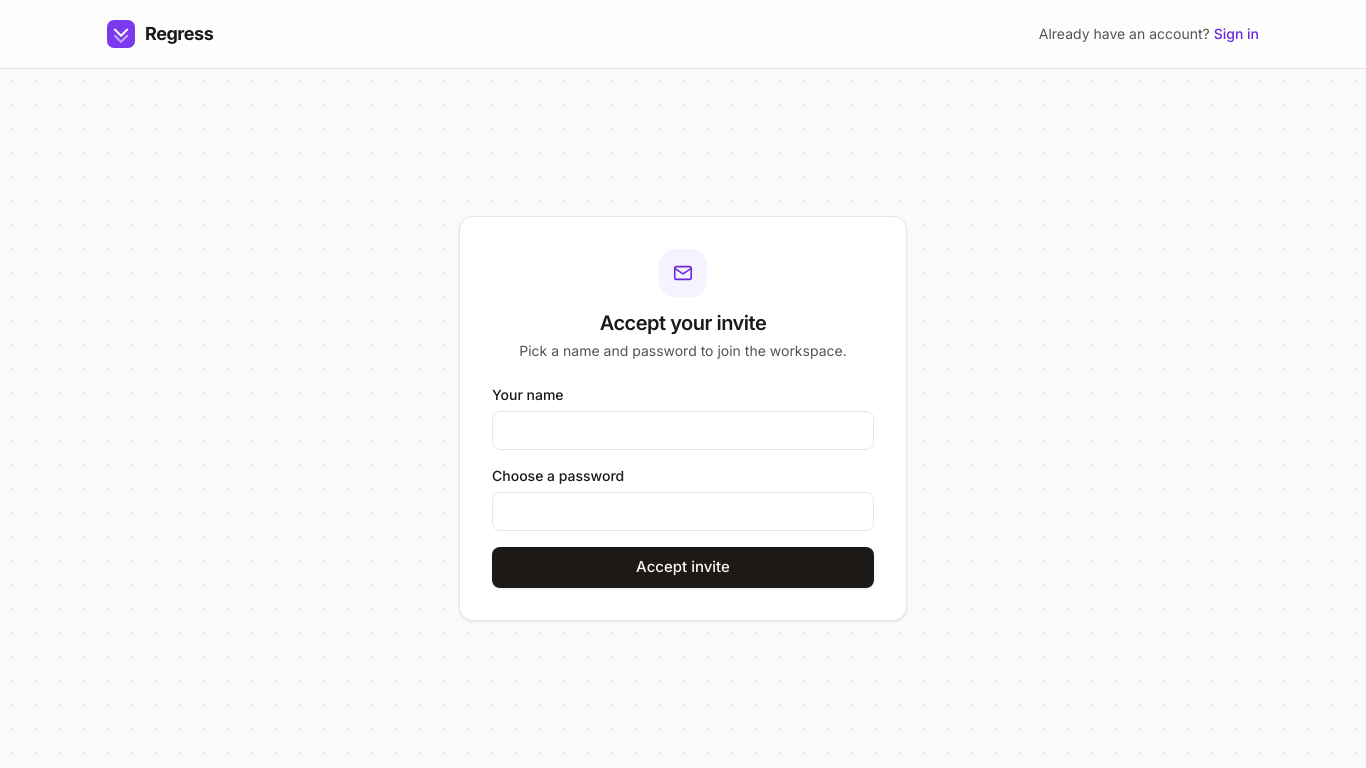
UI: invites — admin creates + invitee redeems › /invite-redeem with a bogus token shows the redeem error
The image size is (1366, 768).
Type "Bogus" into the field with test id "invite-name-input" at (683, 431), box [492,411,874,450]
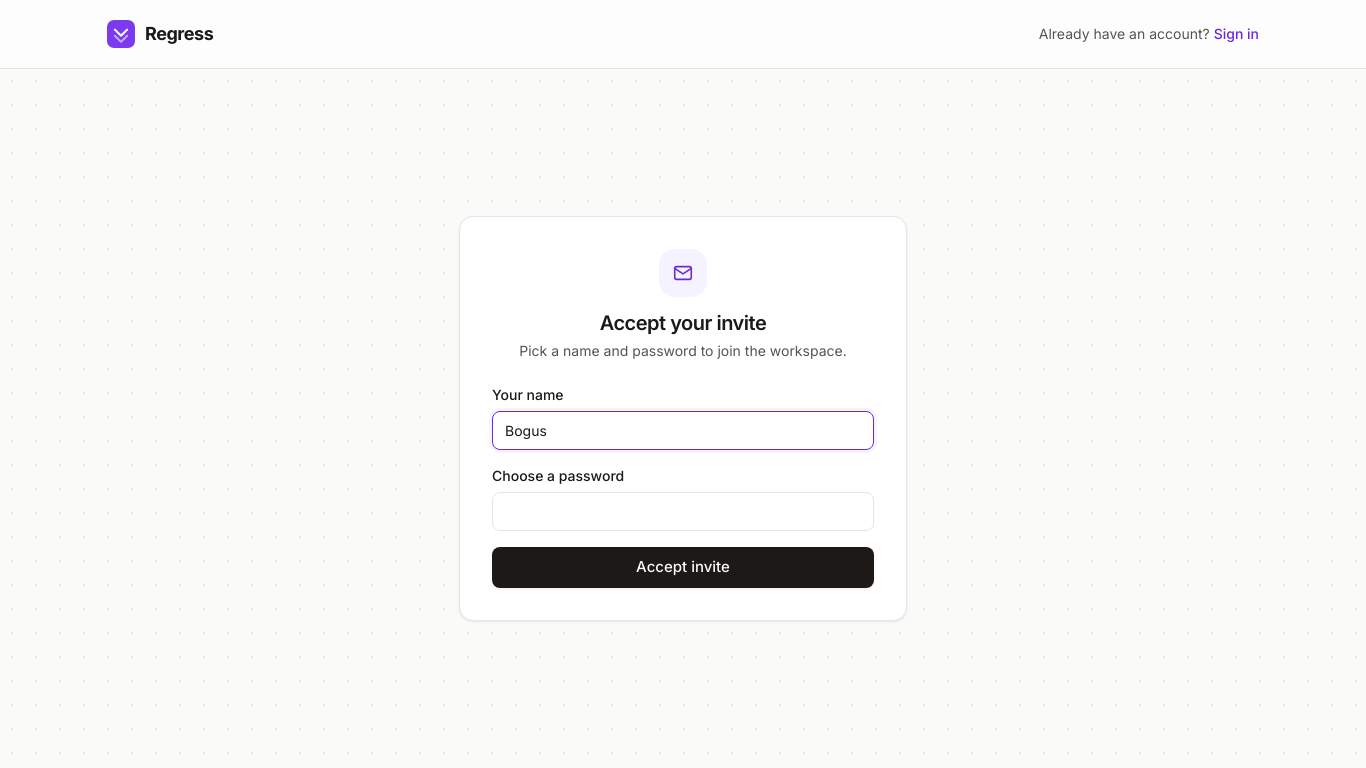
Type "password123" into the password field with test id "invite-password-input" at (683, 512), box [492,492,874,531]
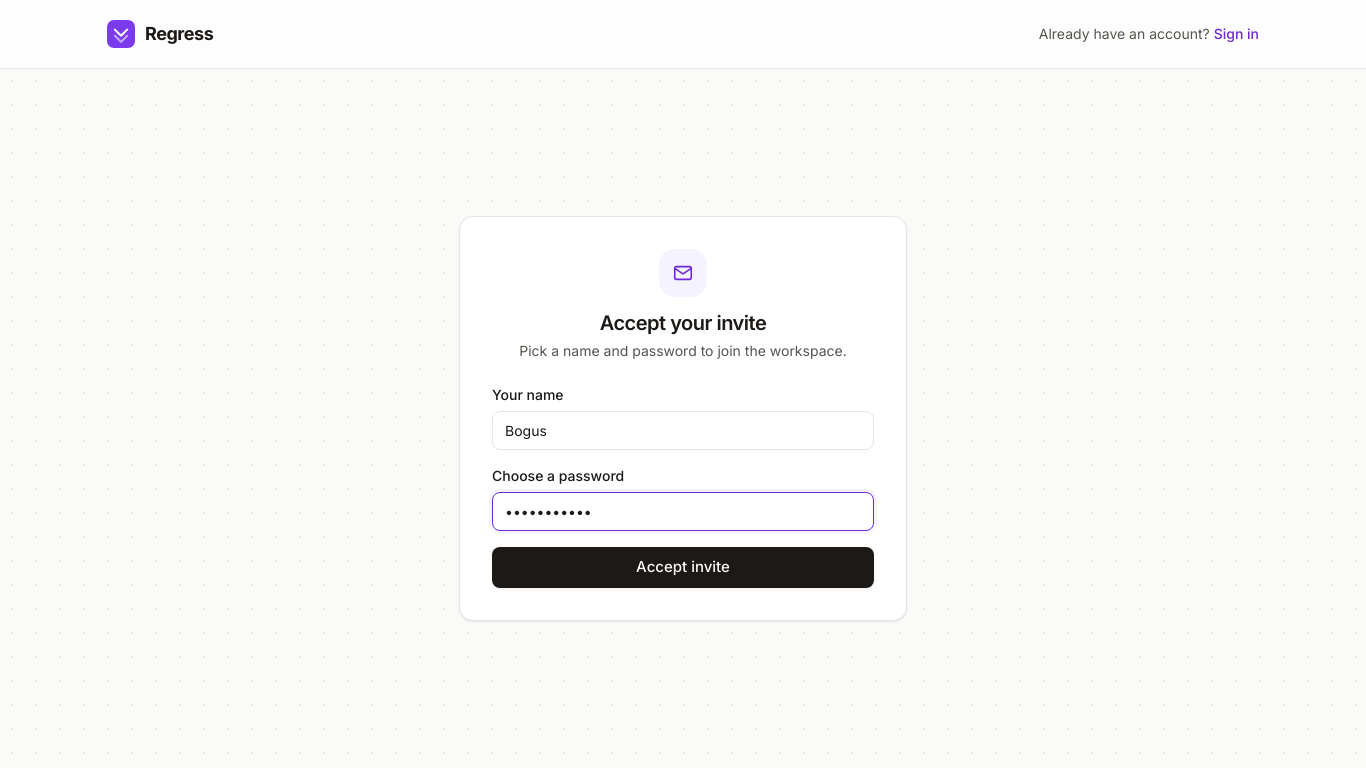
Click the button with test id "invite-redeem-submit" at (683, 568), box [492,547,874,588]
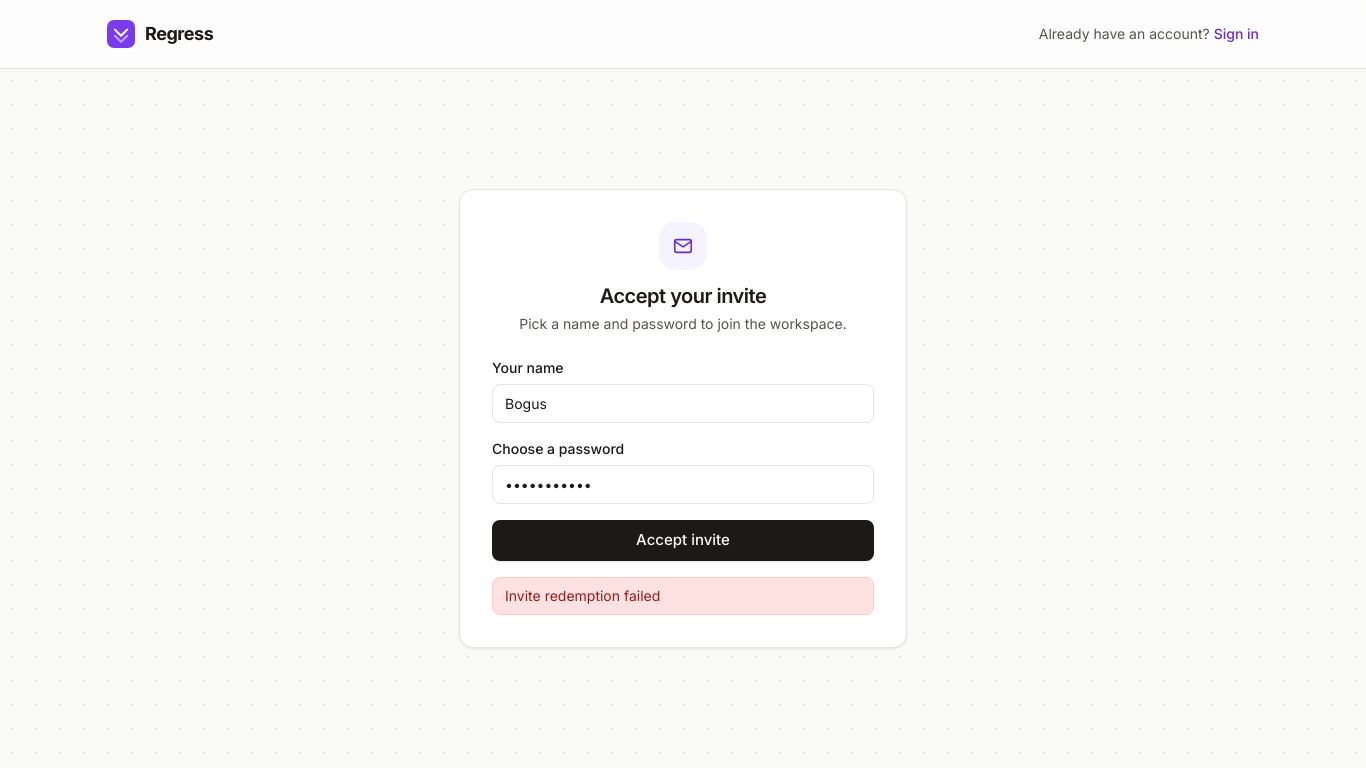
Result: the text "Invite redemption failed" is shown at [492,577,874,615]
